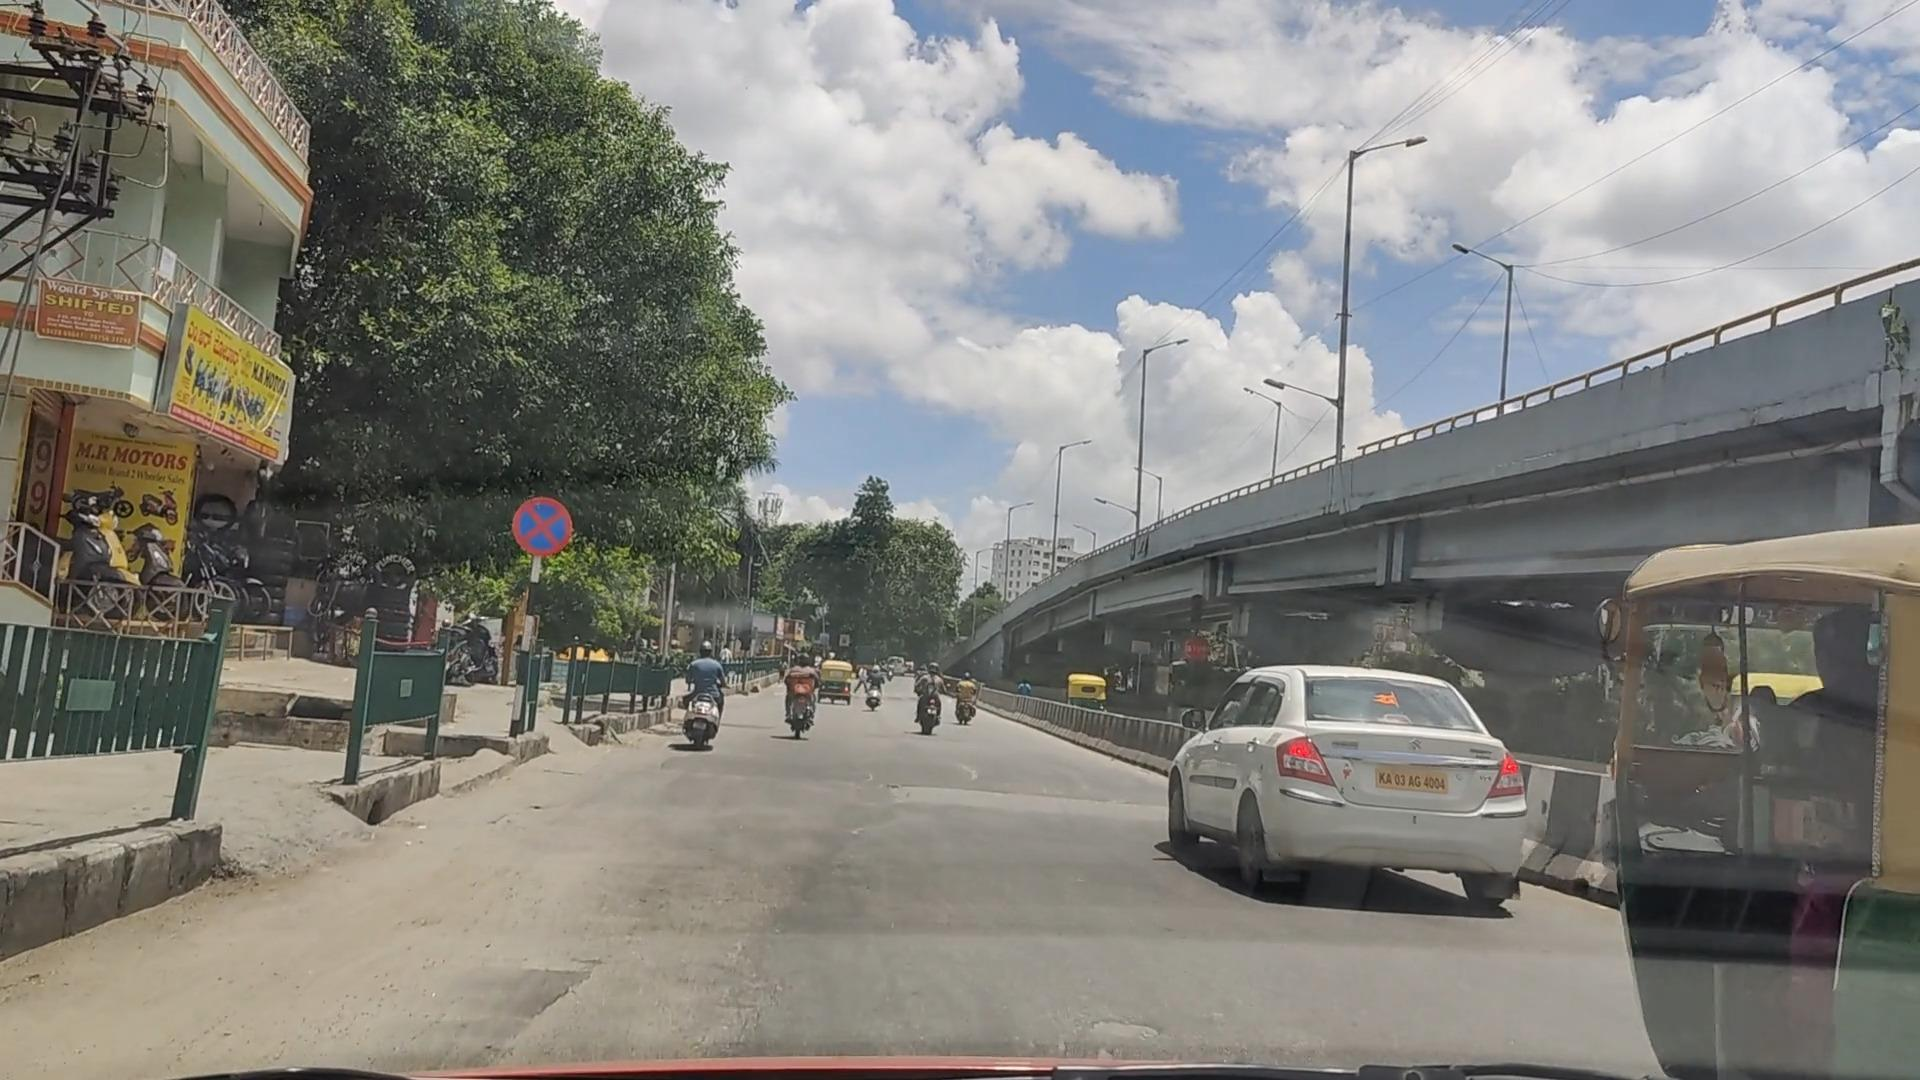LMV: (1171, 658, 1527, 901), (680, 640, 719, 741), (781, 649, 819, 742), (914, 661, 945, 735)
RoadDamages: (886, 782, 1138, 814), (1072, 982, 1160, 1052), (947, 756, 982, 781), (861, 766, 877, 786)
